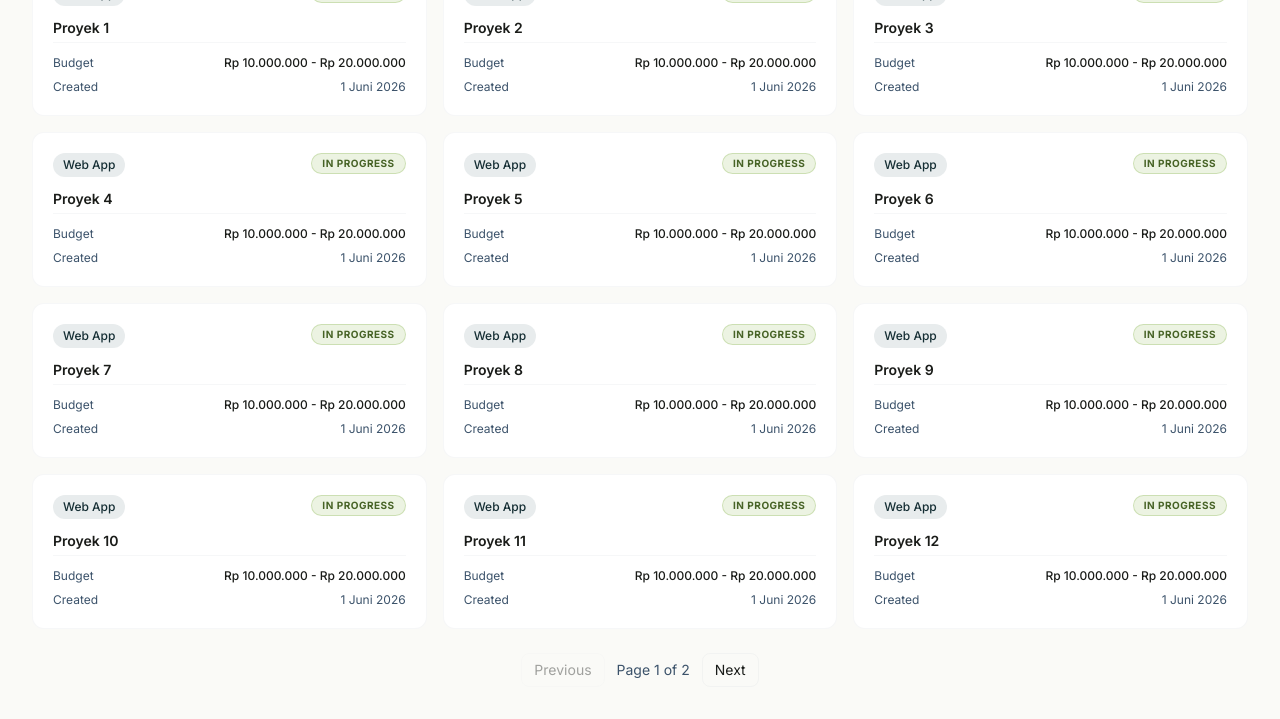
paging through the list › stops at both ends rather than asking for a page that is not there
The image size is (1280, 719).
(page scrolled)
Expected: the heading "Proyek 1" is shown, [53,19,109,36]
Expected: the button "Previous" is disabled, [521,653,605,687]
Click the button "Next": (730, 670) [702,653,759,687]
(page scrolled)
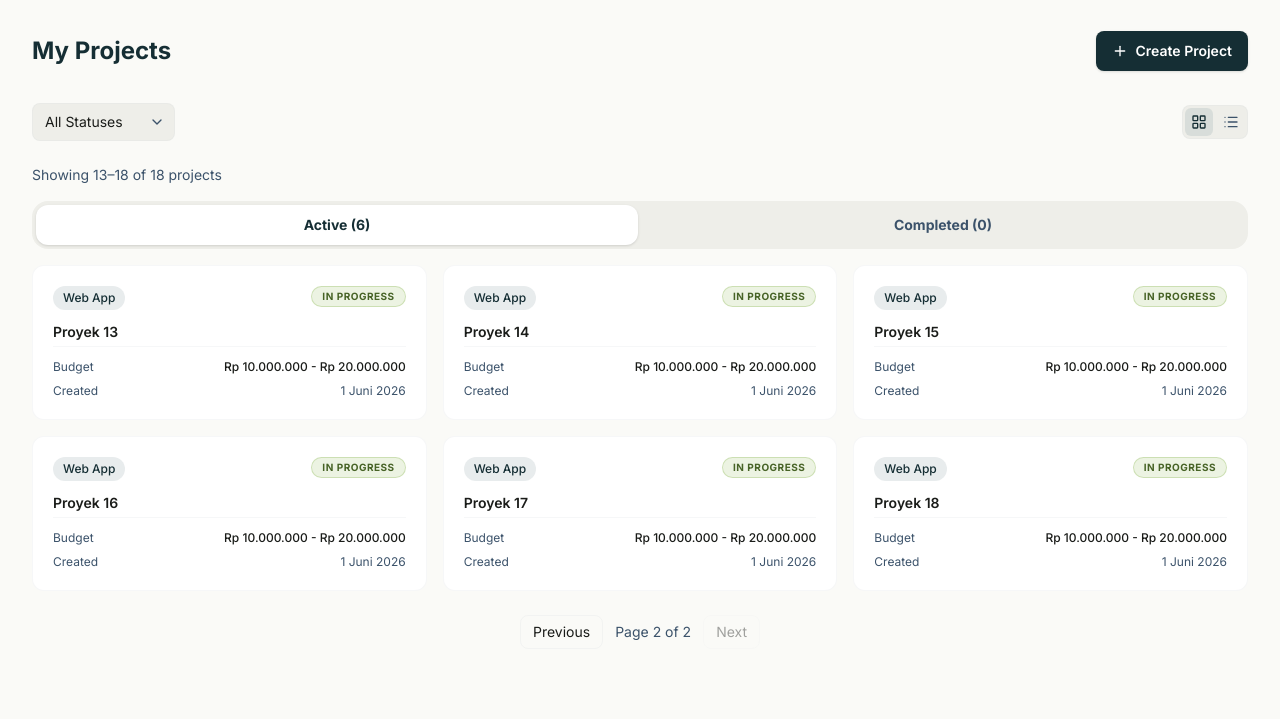
Expected: the heading "Proyek 13" is shown, [53,323,118,340]
Expected: the button "Next" is disabled, [703,615,760,649]
